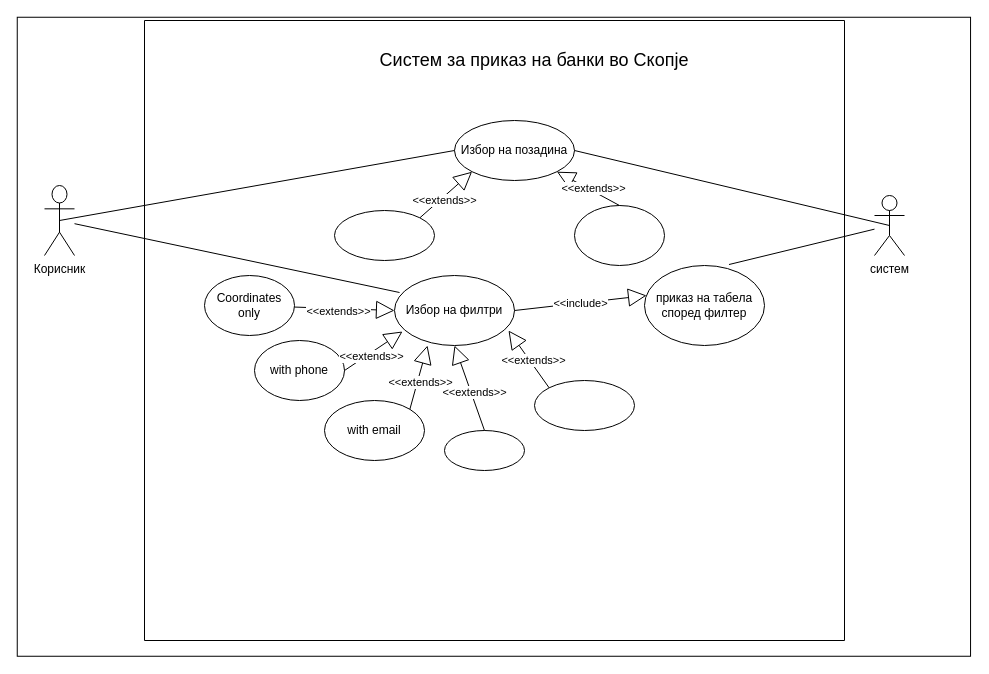
The diagram is 989 pixels wide and 674 high, and some of its shapes have lost their labels. The shapes that lost their labels are listed below. From the top down, each one's centre as x and y in pixels, then its label:
At (x=384, y=235): "light mode".
At (x=619, y=235): "dark mode".
At (x=584, y=405): "with properties".
At (x=484, y=450): "with ATM".
